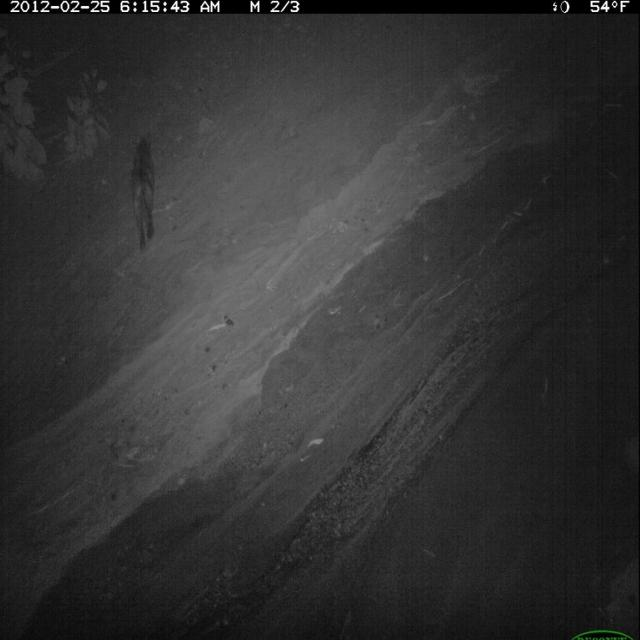cat: (128, 121, 161, 259)
